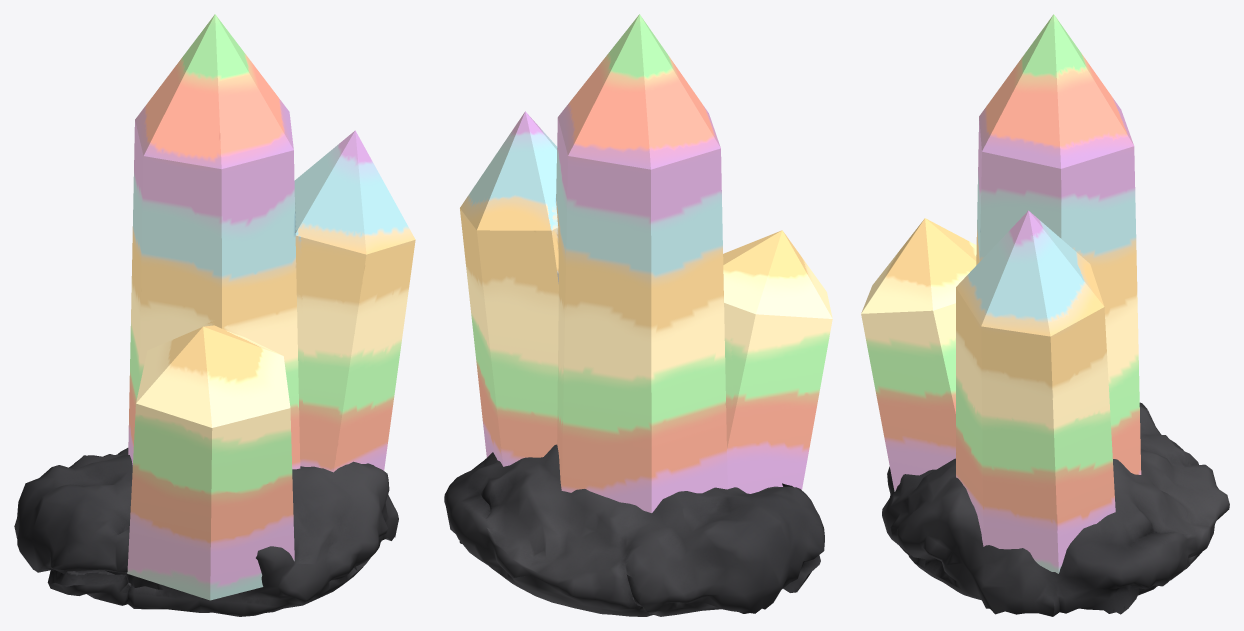
The model's file is cristal_del_tiempo.fbx.
The picture shows the model from 3 angles, left to right: view 1: azimuth 30°, elevation 25°; view 2: azimuth 150°, elevation 25°; view 3: azimuth 270°, elevation 25°; orthographic projection.
Parts seen in each view (by area): view 1: cristal_del_tiempo_cristal, cristal_del_tiempo; view 2: cristal_del_tiempo_cristal, cristal_del_tiempo; view 3: cristal_del_tiempo_cristal, cristal_del_tiempo.
Boxes of the visible parts, box(x1,y1,x2,y2) form: cristal_del_tiempo_cristal: box(127, 14, 415, 600); cristal_del_tiempo: box(14, 448, 398, 616); cristal_del_tiempo_cristal: box(460, 14, 832, 512); cristal_del_tiempo: box(444, 444, 824, 616); cristal_del_tiempo_cristal: box(861, 14, 1141, 573); cristal_del_tiempo: box(882, 402, 1229, 616).
Size of the model in its own units: 3.31 by 4.85 by 3.03.
Materials: 2 (2 with a texture image).
